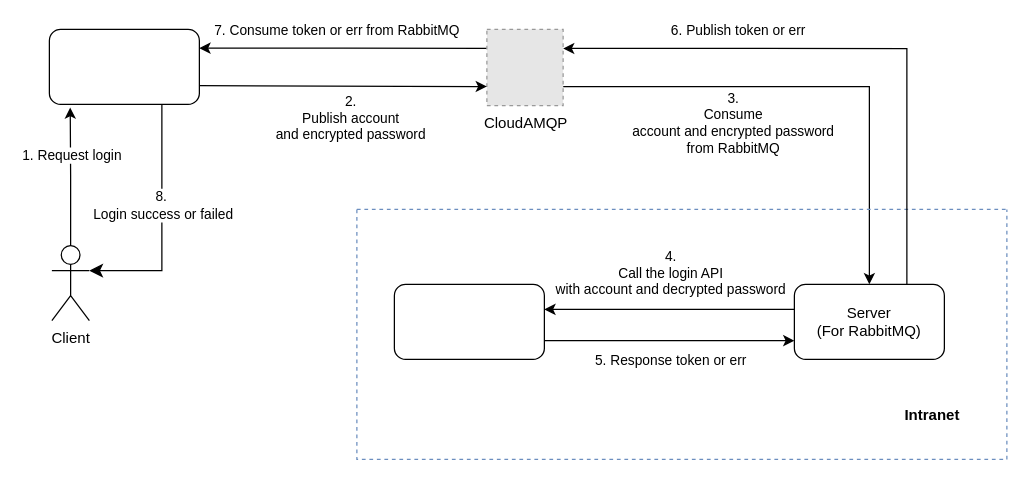
Some shapes in this 1029 by 481 pixel diagram are drawn without their labels. Grey dashed boxes stand in for pictures. Here are the shapes that lost their labels. From the top down, the centre of each, then its label:
At (x=123, y=66): "Server (Extranet)".
At (x=468, y=321): "Server (Auth)".
